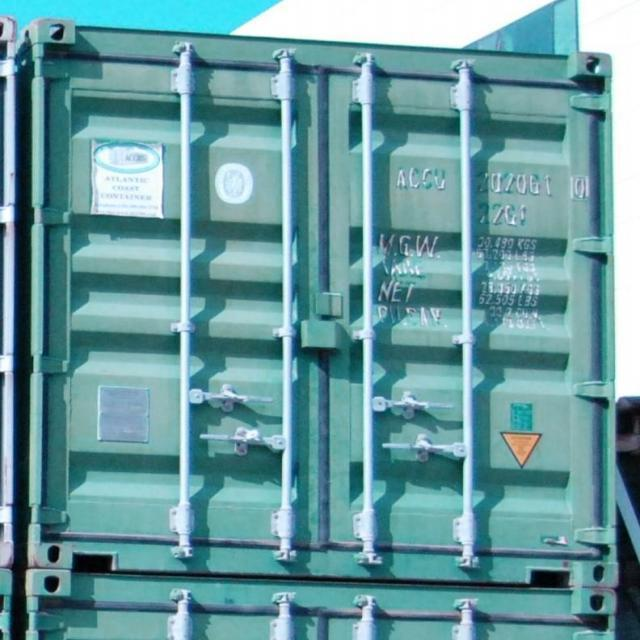ISO: (482, 202, 528, 232)
container_number: (394, 170, 588, 193)
